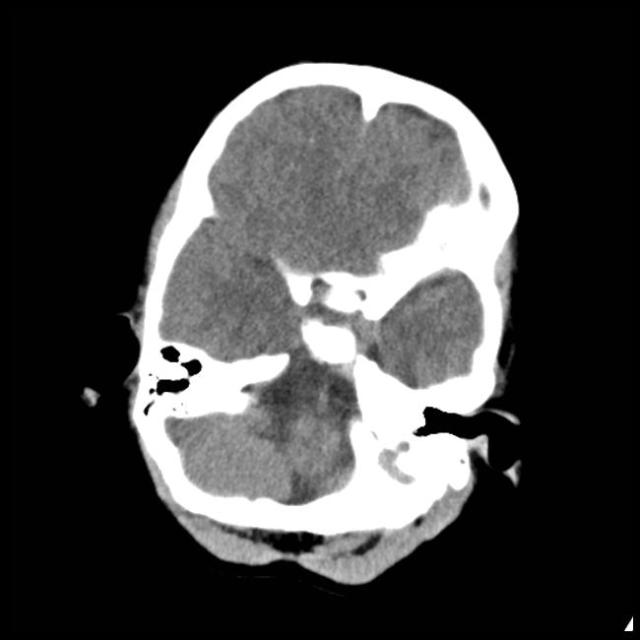lesion: (116, 61, 528, 586)
